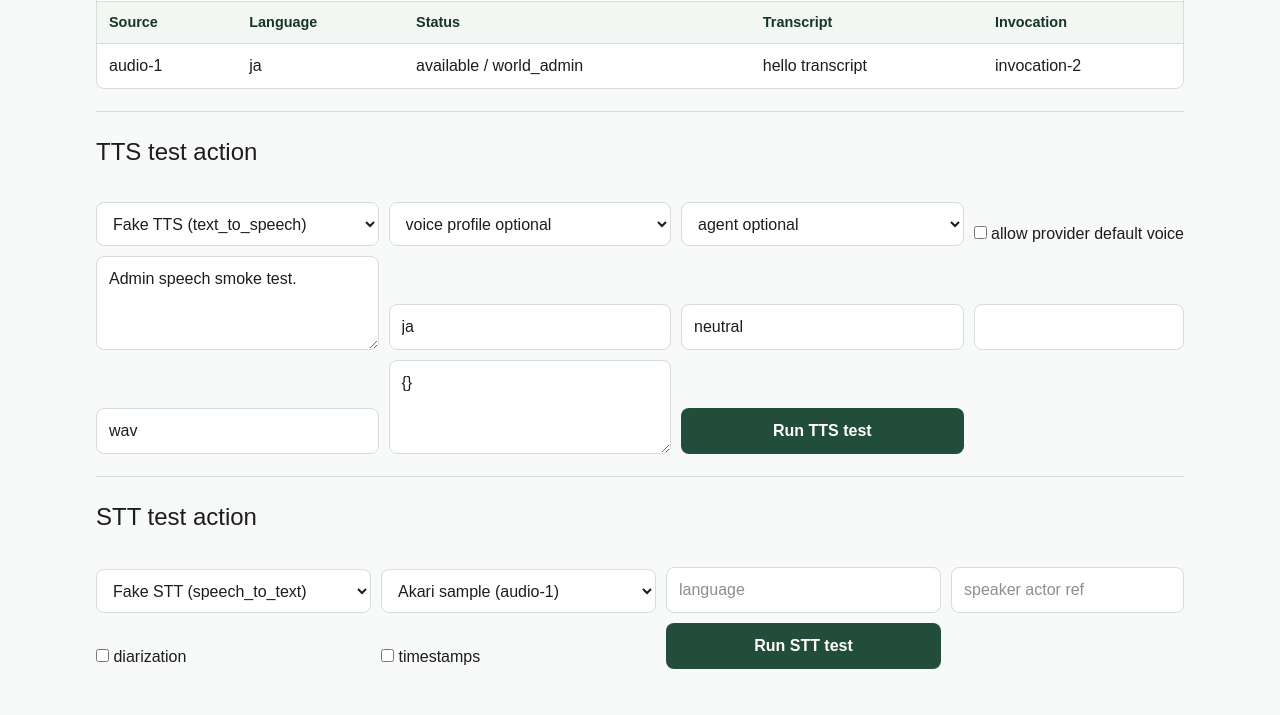
Test case: SpeechAdmin › runs explicit TTS/STT tests and shows safe result references
(page scrolled)
Click the button "Run TTS test": (822, 431) [681,408,964,454]
(page scrolled)
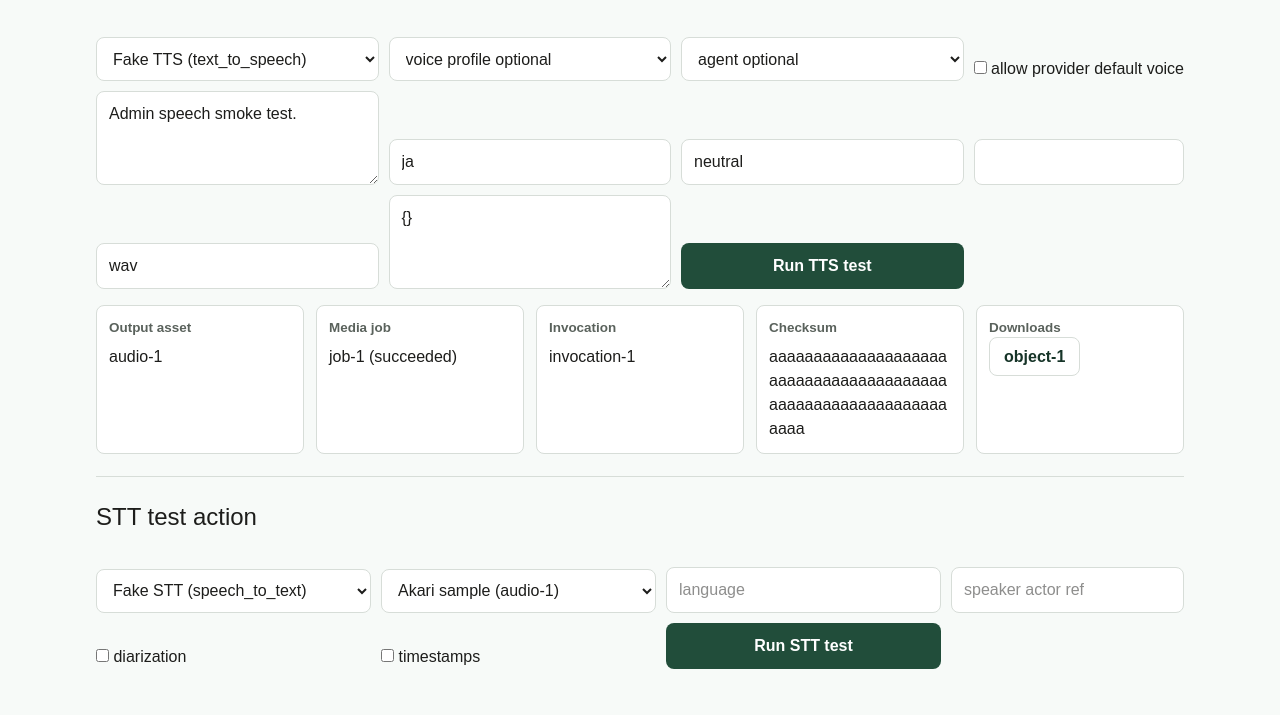
expect the text "Output asset" is shown: met, box [109,320,191,335]
Click the button "Run STT test": (804, 646) [666,622,941,668]
(page scrolled)
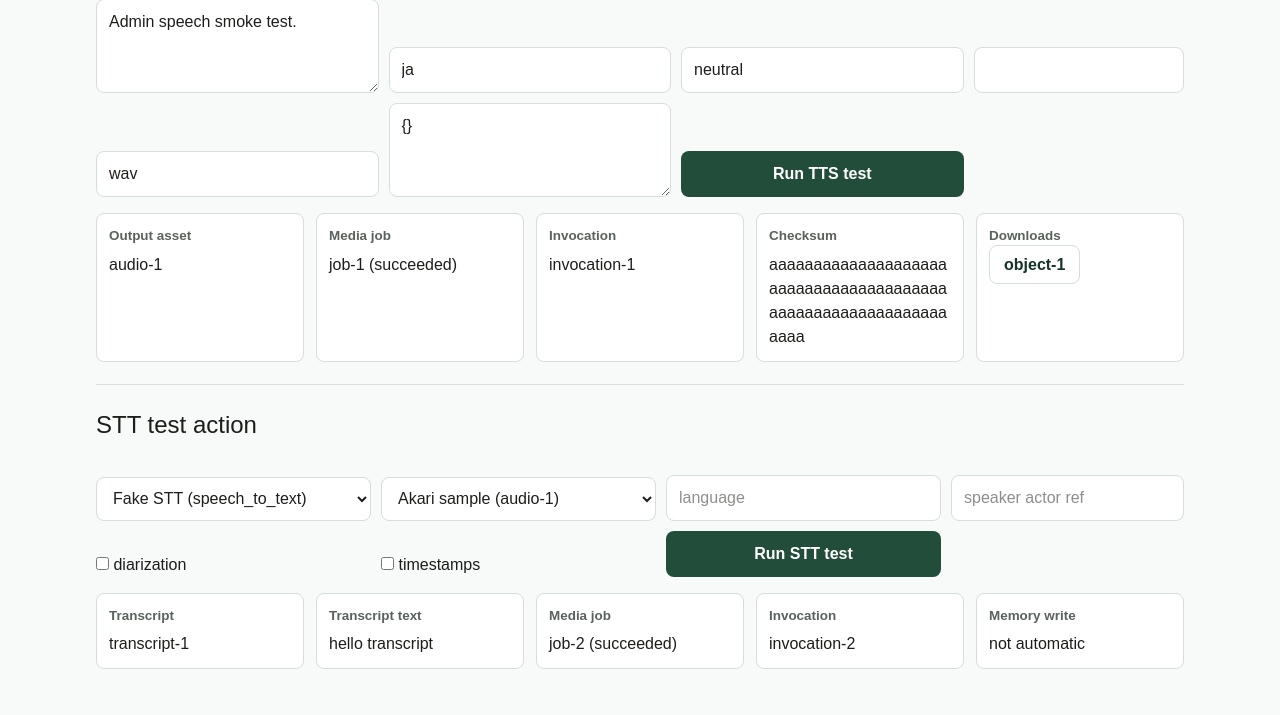
expect the text "Memory write" is shown: met, box [989,608,1076,622]
expect the text "not automatic" is shown: met, box [989,635,1085,652]
